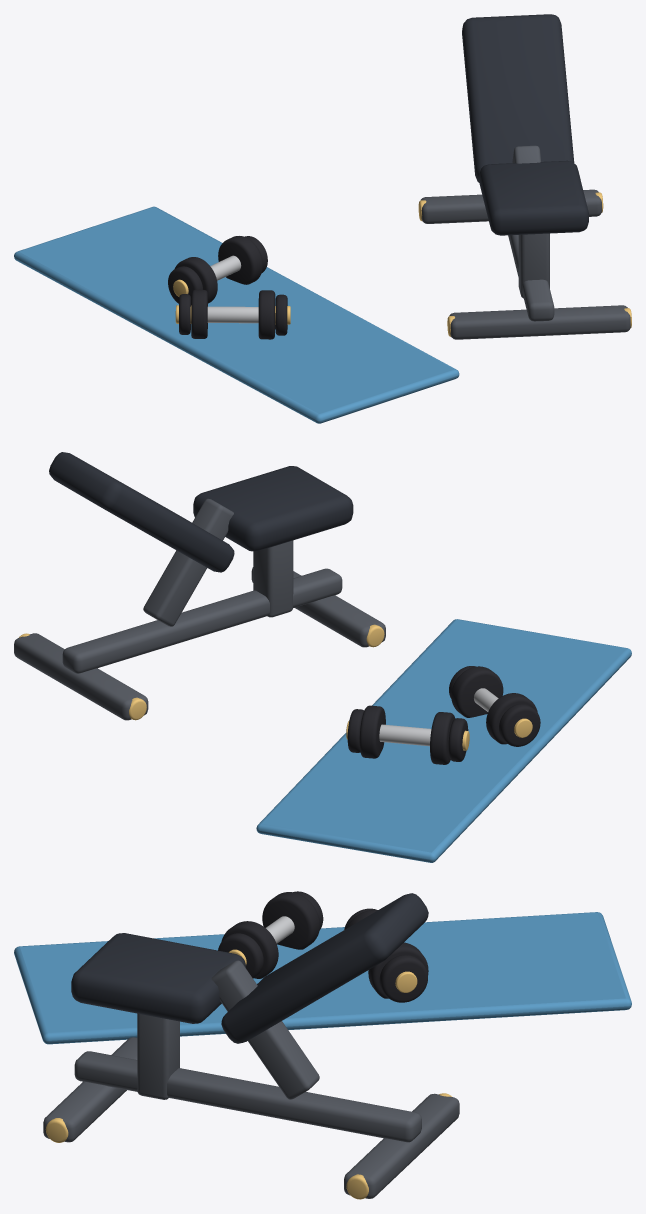
File: gym-props.glb
3 views of the same model, one above another, from view 1: azimuth 30°, elevation 25°; view 2: azimuth 150°, elevation 25°; view 3: azimuth 270°, elevation 25° (orthographic). The views are drawn at different scales.
Parts seen in each view (by area): view 1: Mat, Bench, DumbbellL, DumbbellR; view 2: Mat, Bench, DumbbellR, DumbbellL; view 3: Bench, Mat, DumbbellR, DumbbellL.
Boxes of the visible parts, x1,y1,x2,y2 form: Mat: (14, 206, 459, 423); Bench: (418, 14, 631, 339); DumbbellL: (168, 236, 267, 304); DumbbellR: (175, 289, 290, 339); Mat: (256, 619, 631, 862); Bench: (14, 452, 385, 720); DumbbellR: (449, 666, 540, 746); DumbbellL: (346, 705, 469, 764); Bench: (43, 893, 459, 1199); Mat: (14, 912, 631, 1044); DumbbellR: (218, 891, 323, 978); DumbbellL: (344, 908, 428, 1002).
Size of what is drawn, in the model's own units: 1.93 by 0.7833 by 1.77.
